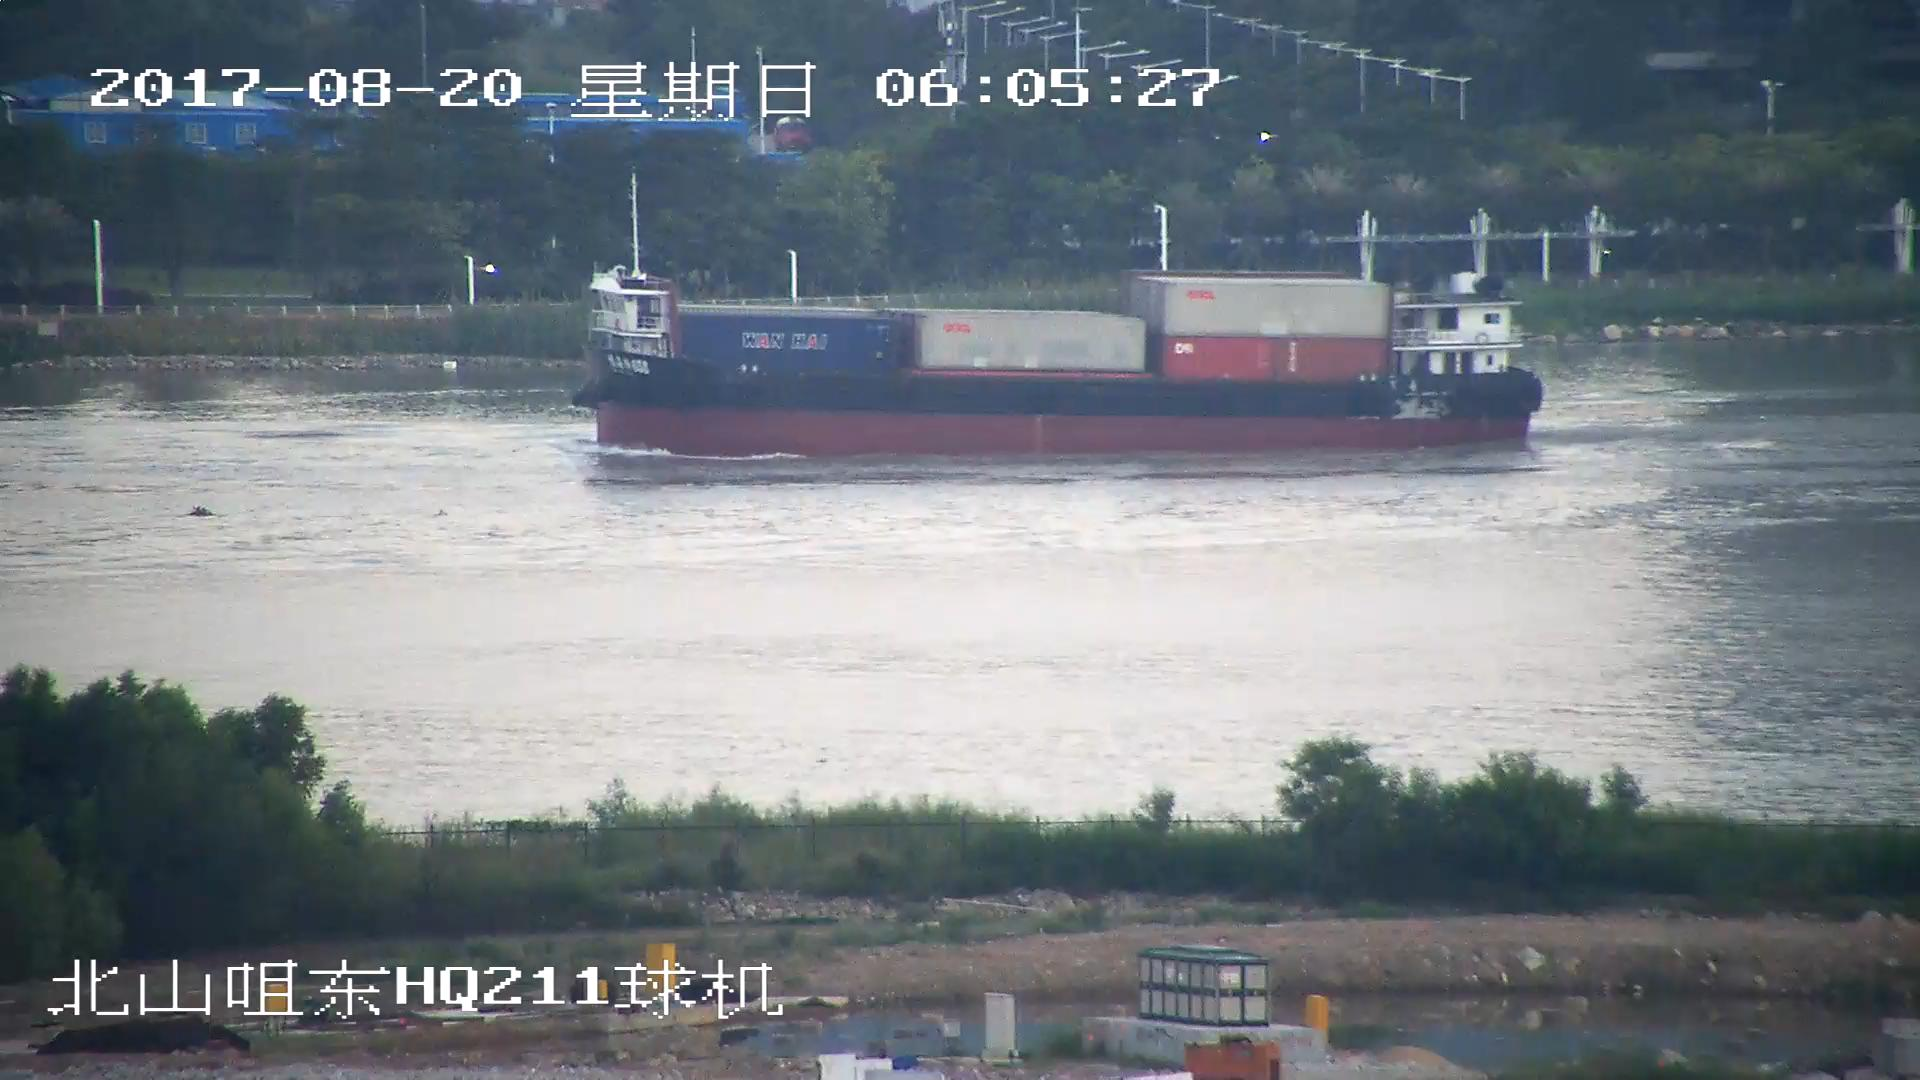container ship: (567, 171, 1544, 456)
